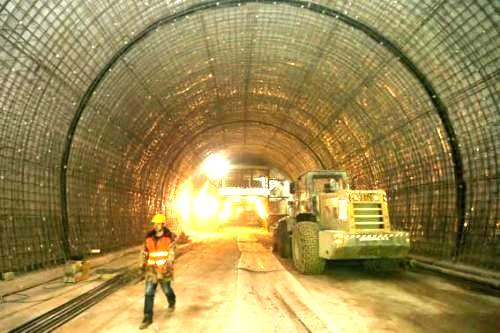helmet: (151, 213, 166, 233)
